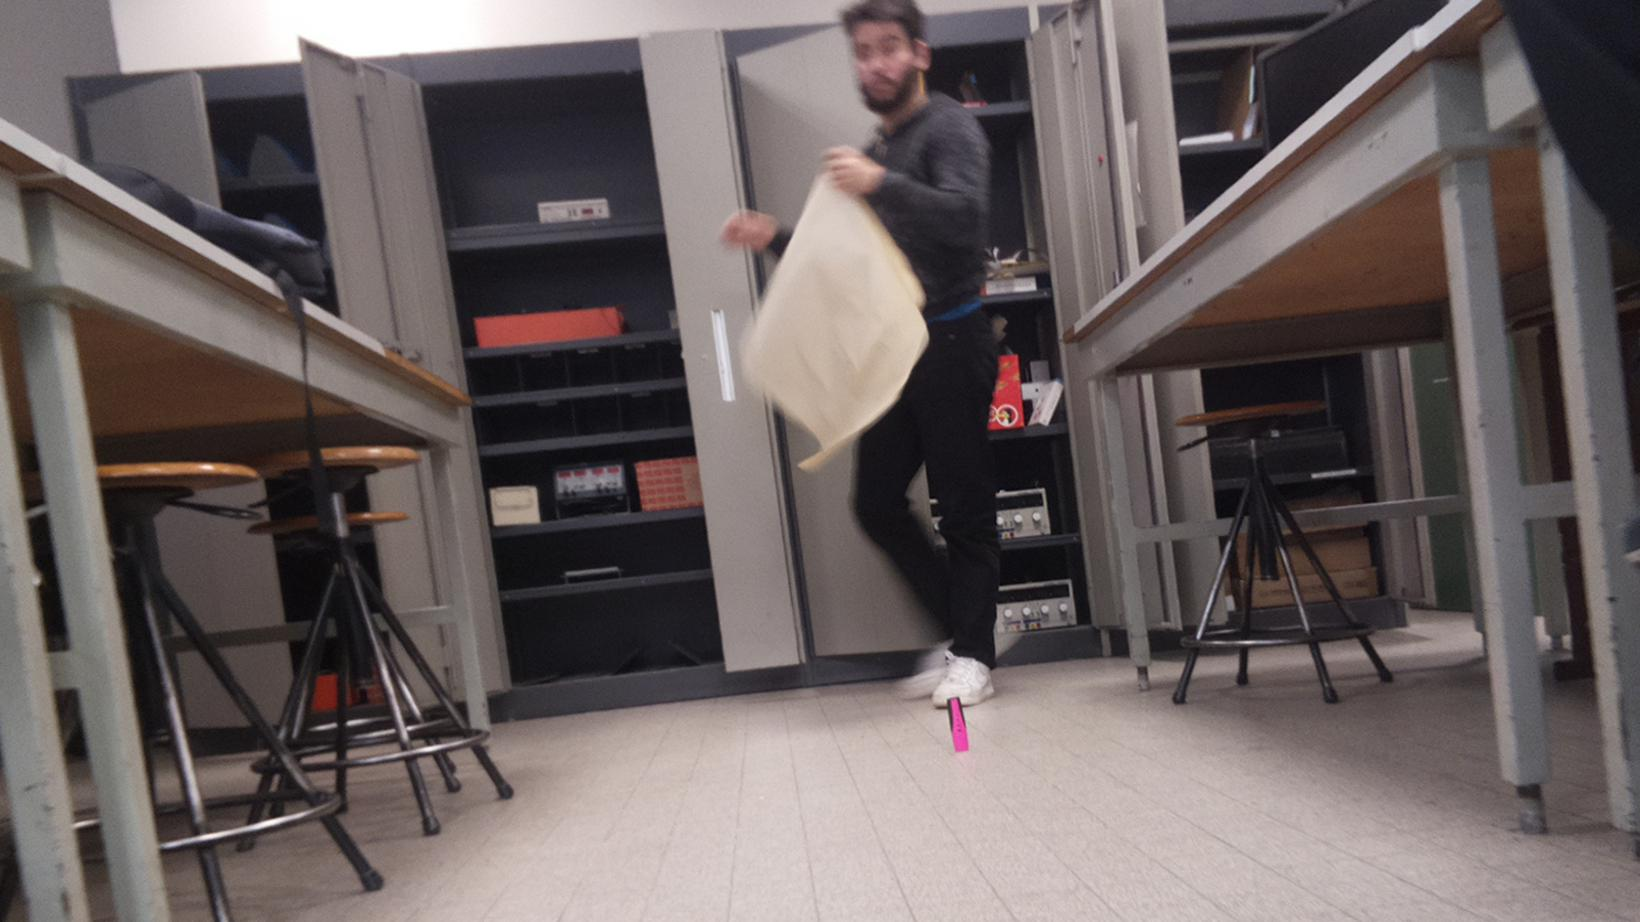small: (944, 696, 972, 754)
